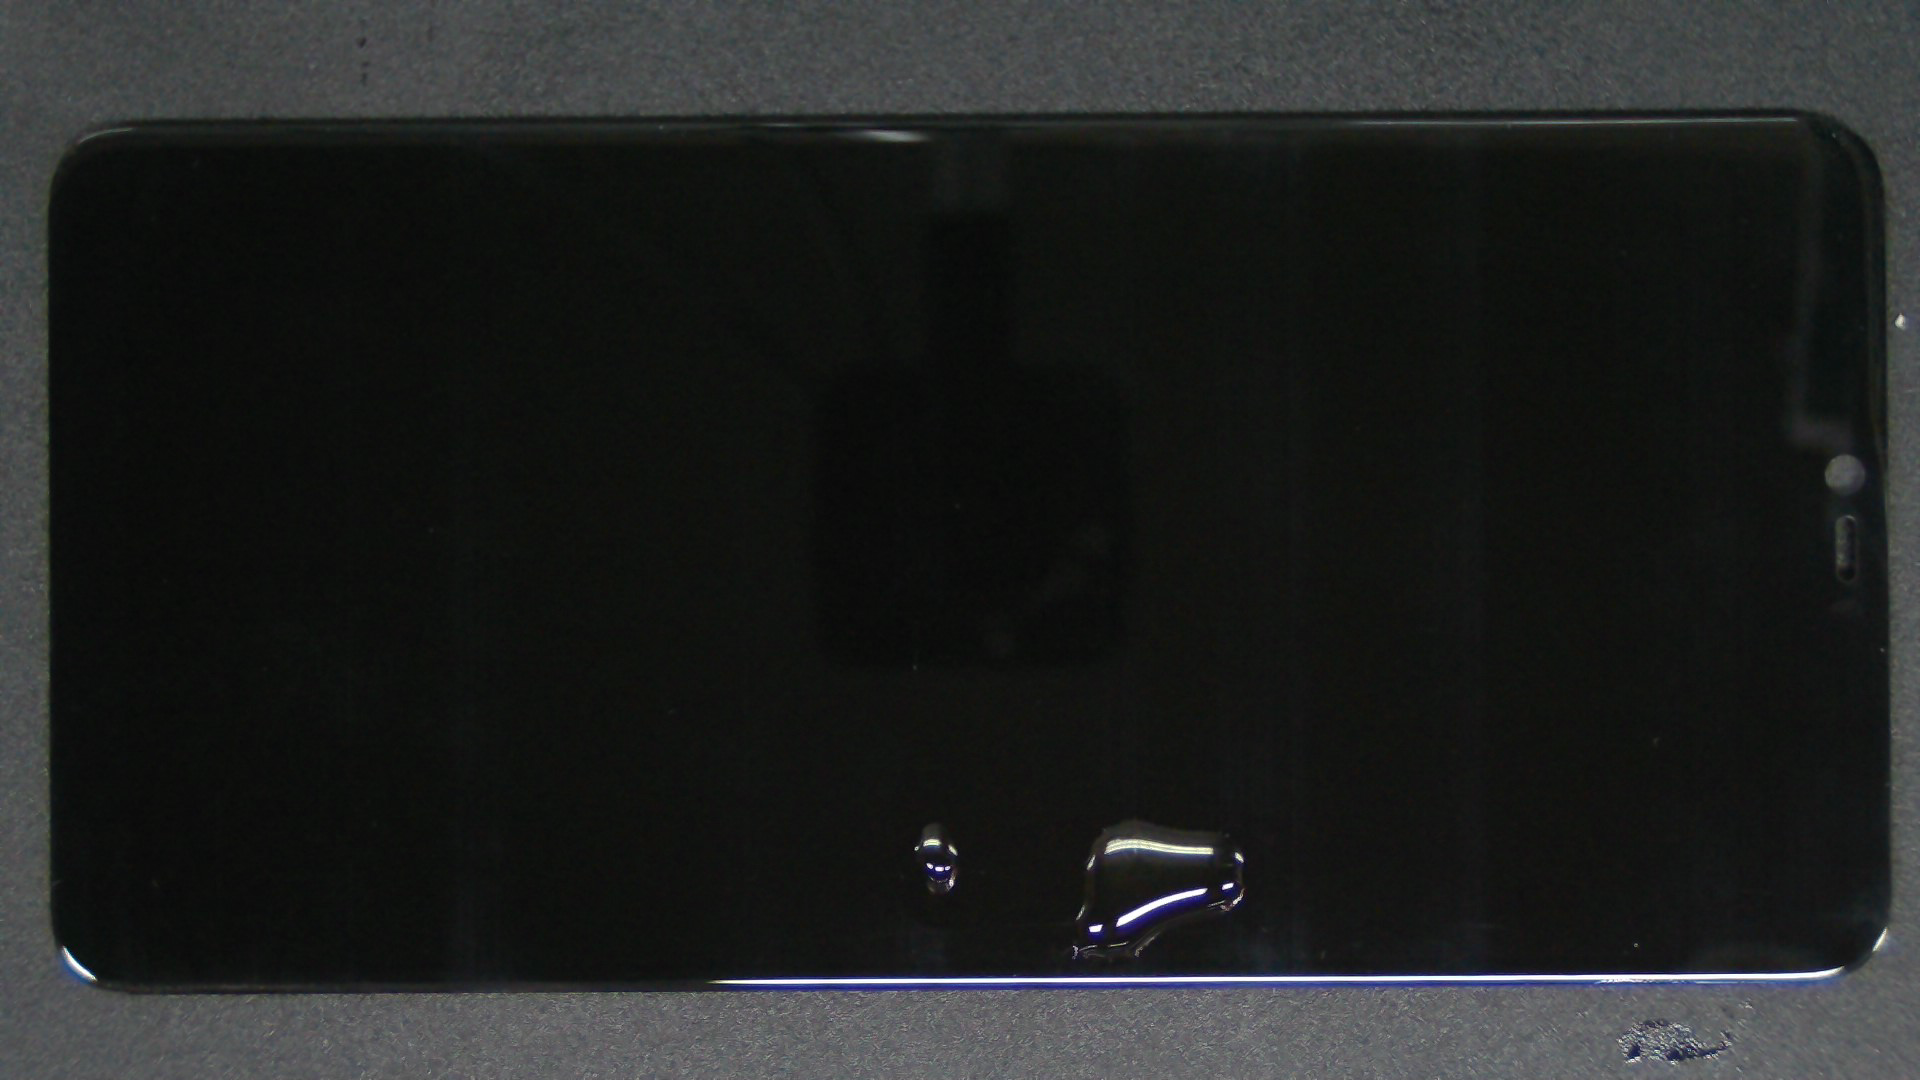defect: (1065, 819, 1244, 960), (913, 823, 959, 895)
